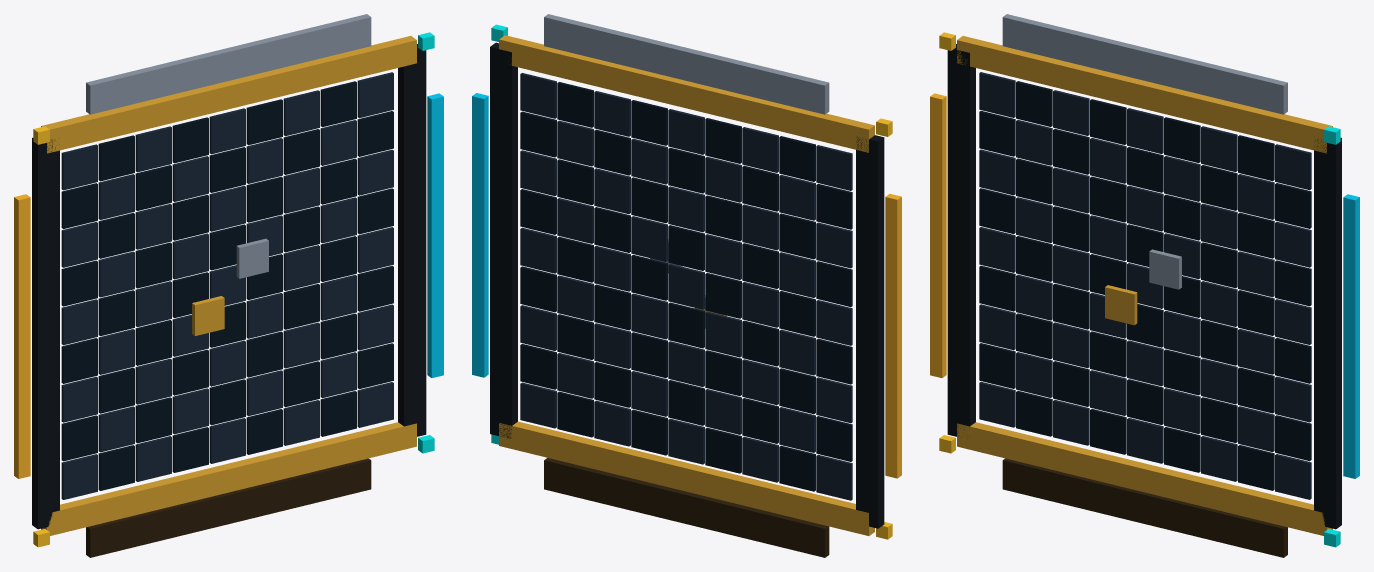
File: classic_sigma_board_blockout.obj
3 views of the same model, side by side, from view 1: azimuth 30°, elevation 25°; view 2: azimuth 150°, elevation 25°; view 3: azimuth 330°, elevation 25° (orthographic).
Bounding box in the file's own units: 11.5 × 12.2 × 0.48.
